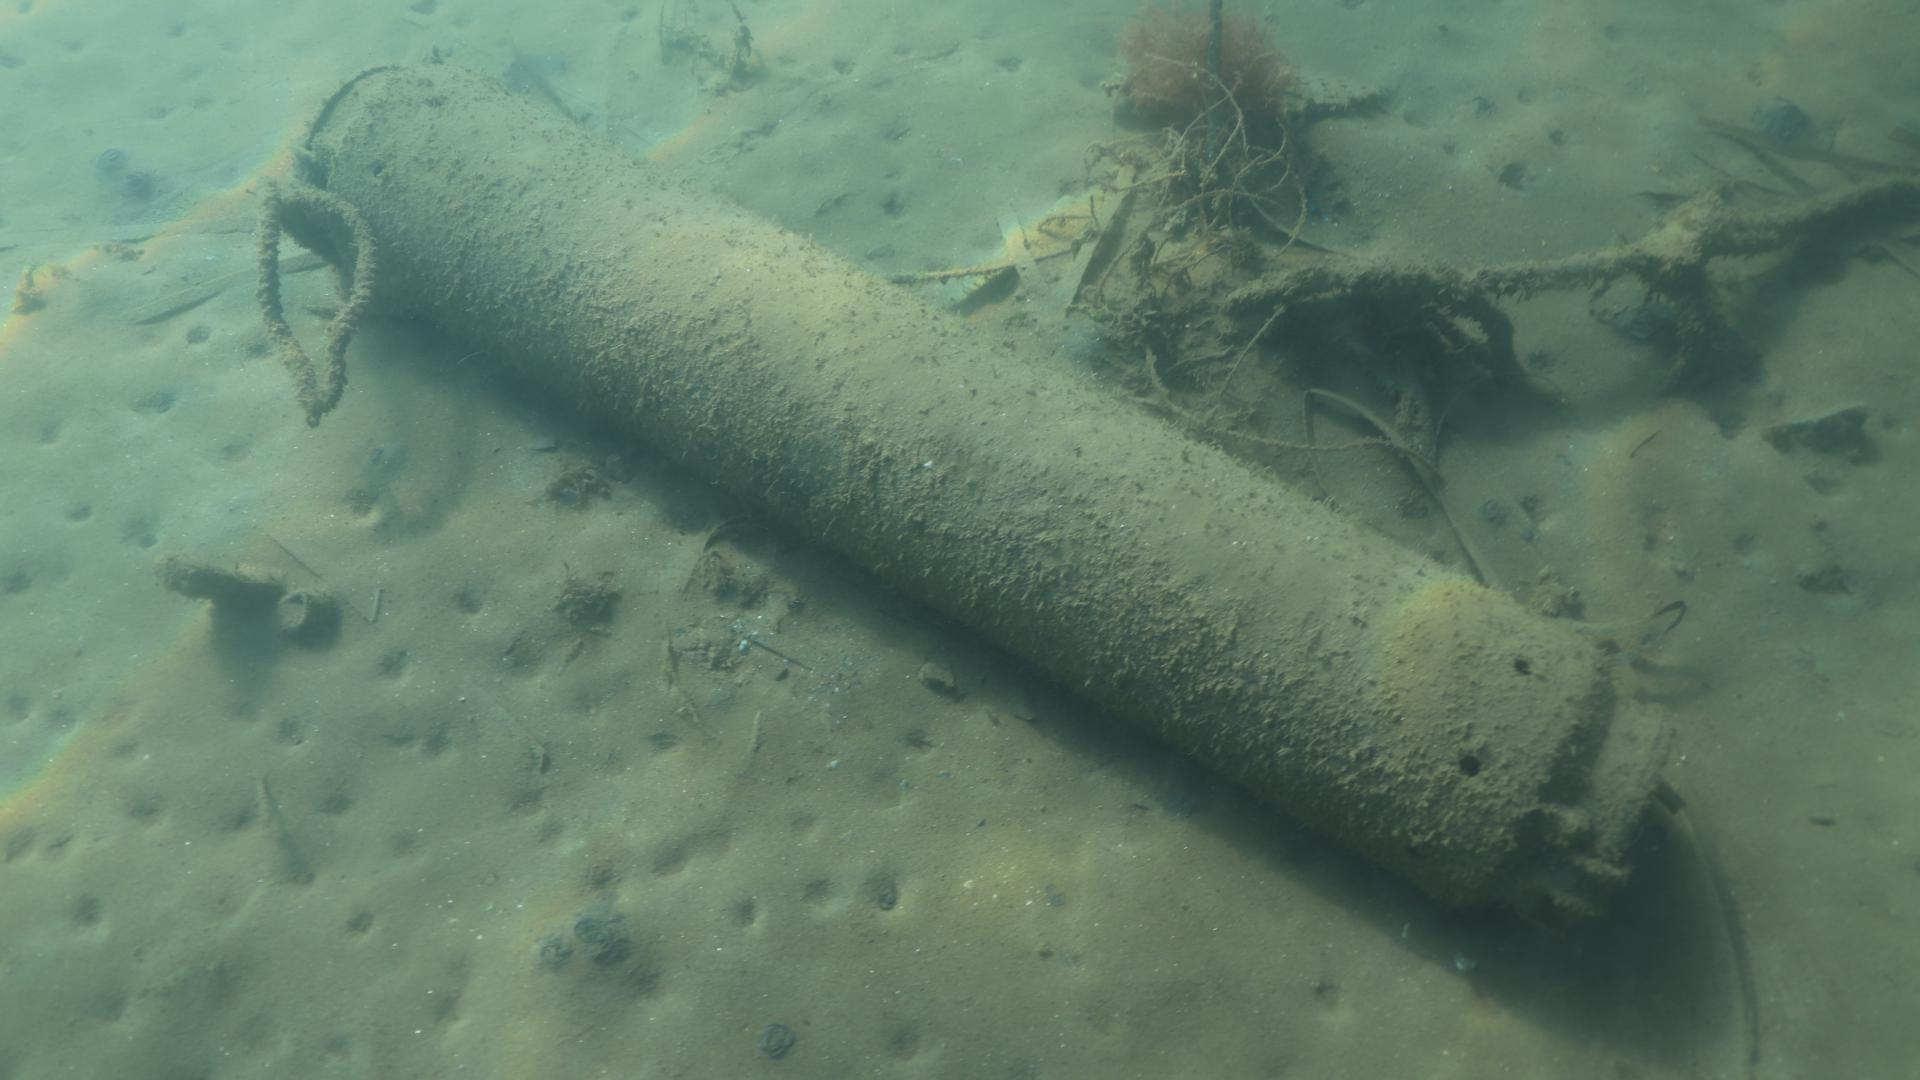eel fish trap: (290, 55, 1668, 943)
rope: (251, 175, 380, 415)
